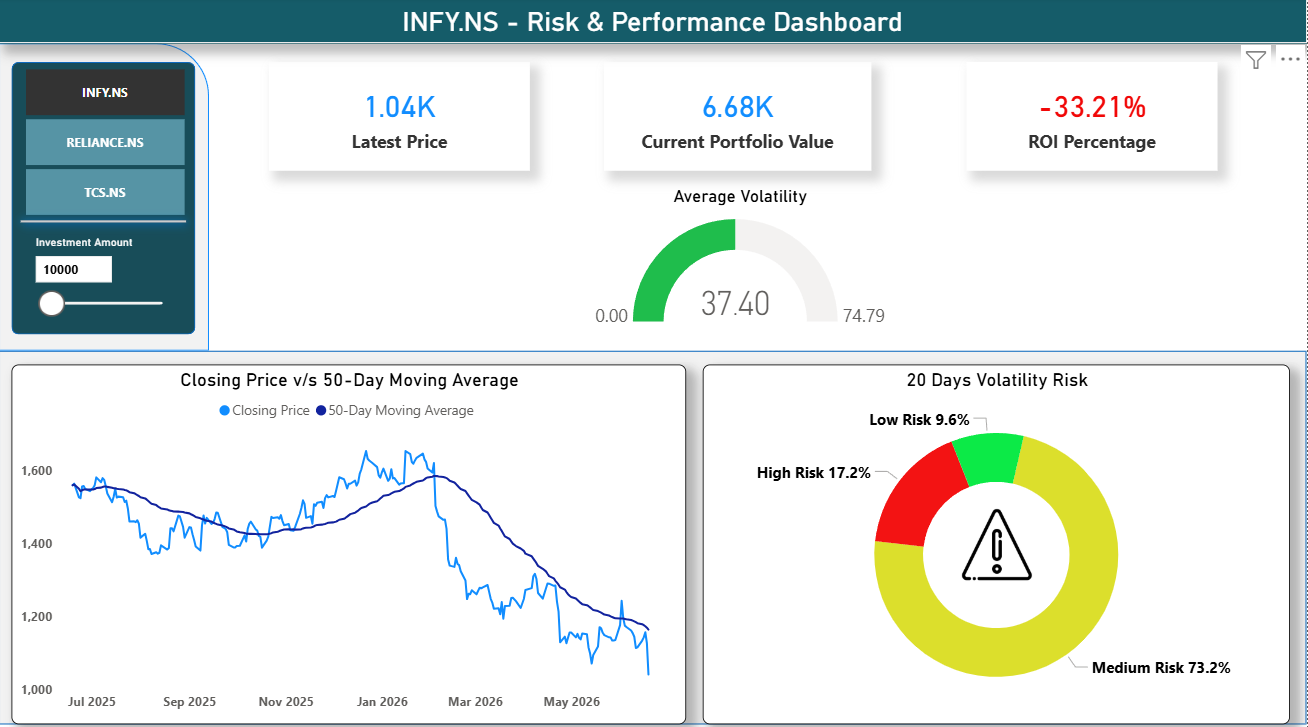

What the dashboard file says about the page in this screenshot:
{"tool":"powerbi","page":{"name":"Page 1","canvas":[1280,720],"ordinal":0},"visuals":[{"type":"shape","box":[0,346.1,1279.1,374.2],"z":0},{"type":"shape","box":[12.2,63.6,179.8,266.6],"z":1000},{"type":"card","fields":{"Values":["portfolio_db dashboard_data_view.Latest_Price"]},"box":[264.1,63.6,255.6,106.4],"z":2000},{"type":"slicer","fields":{"Values":["portfolio_db dashboard_data_view.Ticker"]},"box":[0,63.6,205.4,156.5],"z":3000},{"type":"lineChart","title":"Closing Price v/s 50-Day Moving Average","fields":{"Y":["Sum(portfolio_db dashboard_data_view.Close)","Sum(portfolio_db dashboard_data_view.Moving_Average_50)"],"Category":["portfolio_db dashboard_data_view.Date"]},"box":[12.2,359.5,660.3,352.2],"z":4000},{"type":"donutChart","title":"20 Days Volatility Risk ","fields":{"Category":["portfolio_db dashboard_data_view.Risk_category"],"Y":["CountNonNull(portfolio_db dashboard_data_view.Ticker)"]},"box":[688.5,359.5,574.7,352.2],"z":5000},{"type":"gauge","title":"Average Volatility","fields":{"Y":["Avg(portfolio_db dashboard_data_view.Volatility_20_days)"]},"box":[573.5,184.6,303.3,151.6],"z":6000},{"type":"slicer","fields":{"Values":["Investment_Amount.Investment_Amount"]},"box":[23.2,228.7,157.7,101.5],"z":7000},{"type":"card","fields":{"Values":["portfolio_db dashboard_data_view.Current_Portfolio_Value"]},"box":[591.9,63.6,261.7,106.4],"z":8000},{"type":"card","fields":{"Values":["portfolio_db dashboard_data_view.Smart_Title"]},"box":[0,0,1279.1,45.2],"z":9000},{"type":"card","fields":{"Values":["portfolio_db dashboard_data_view.ROI_Percentage"]},"box":[946.5,63.6,245.8,106.4],"z":10000},{"type":"shape","box":[12.2,198.1,179.8,42.8],"z":11000},{"type":"image","box":[913.5,497.7,126,75.8],"z":12000}]}

Visuals, with their boxes in screenshot pixels (x1, y1, x2, y2), scaled from the page's 1280x720 canvas onto the 1308x727 screenshot:
shape: x1=0 y1=349 x2=1307 y2=726
shape: x1=12 y1=64 x2=196 y2=333
card - portfolio_db dashboard_data_view.Latest_Price: x1=270 y1=64 x2=531 y2=172
slicer - portfolio_db dashboard_data_view.Ticker: x1=0 y1=64 x2=210 y2=222
"Closing Price v/s 50-Day Moving Average" lineChart: x1=12 y1=363 x2=687 y2=719
"20 Days Volatility Risk " donutChart: x1=704 y1=363 x2=1291 y2=719
"Average Volatility" gauge: x1=586 y1=186 x2=896 y2=339
slicer - Investment_Amount.Investment_Amount: x1=24 y1=231 x2=185 y2=333
card - portfolio_db dashboard_data_view.Current_Portfolio_Value: x1=605 y1=64 x2=872 y2=172
card - portfolio_db dashboard_data_view.Smart_Title: x1=0 y1=0 x2=1307 y2=46
card - portfolio_db dashboard_data_view.ROI_Percentage: x1=967 y1=64 x2=1218 y2=172
shape: x1=12 y1=200 x2=196 y2=243
image: x1=933 y1=503 x2=1062 y2=579
